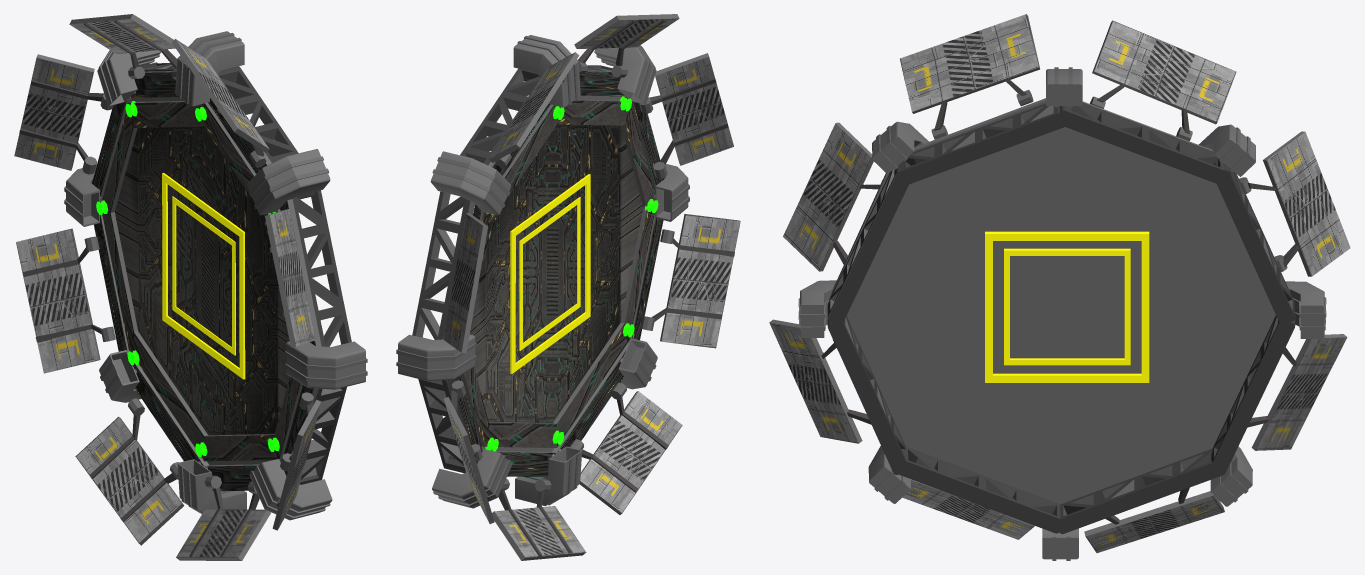
File: SpawnPlatform.gltf
3 renders of one model, left to right at view 1: azimuth 30°, elevation 25°; view 2: azimuth 150°, elevation 25°; view 3: azimuth 270°, elevation 25°, orthographic. The views are drawn at different scales.
Parts seen in each view (by area): view 1: Cube.003_Mid_0, Cube.003_Sides_0, Cube.003_Base color_0, Cube.003_Material_0, Cube.003_Material.002_0, Cube.003_Material.001_0, Cube.003_Material.003_0, Cube.003_Ylo Lig_0, Cube.003_Grn lig_0; view 2: Cube.003_Mid_0, Cube.003_Sides_0, Cube.003_Base color_0, Cube.003_Material_0, Cube.003_Material.002_0, Cube.003_Material.001_0, Cube.003_Material.003_0, Cube.003_Ylo Lig_0, Cube.003_Grn lig_0; view 3: Cube.003_Base color_0, Cube.003_Sides_0, Cube.003_Material.001_0, Cube.003_Material.003_0, Cube.003_Material.002_0, Cube.003_Ylo Lig_0.
Boxes of the visible parts, x1,y1,x2,y2 form: Cube.003_Mid_0: [115, 126, 289, 435]; Cube.003_Sides_0: [14, 18, 321, 557]; Cube.003_Base color_0: [17, 14, 367, 560]; Cube.003_Material_0: [92, 72, 315, 491]; Cube.003_Material.002_0: [64, 33, 367, 519]; Cube.003_Material.001_0: [140, 62, 351, 484]; Cube.003_Material.003_0: [162, 173, 245, 379]; Cube.003_Ylo Lig_0: [19, 20, 312, 557]; Cube.003_Grn lig_0: [96, 101, 279, 456]; Cube.003_Mid_0: [469, 124, 643, 422]; Cube.003_Sides_0: [443, 18, 740, 557]; Cube.003_Base color_0: [396, 14, 740, 560]; Cube.003_Material_0: [451, 71, 664, 477]; Cube.003_Material.002_0: [396, 35, 689, 507]; Cube.003_Material.001_0: [412, 65, 611, 472]; Cube.003_Material.003_0: [510, 174, 590, 373]; Cube.003_Ylo Lig_0: [451, 19, 734, 556]; Cube.003_Grn lig_0: [485, 96, 658, 451]; Cube.003_Base color_0: [769, 14, 1346, 560]; Cube.003_Sides_0: [769, 14, 1350, 552]; Cube.003_Material.001_0: [827, 102, 1295, 533]; Cube.003_Material.003_0: [985, 231, 1149, 382]; Cube.003_Material.002_0: [798, 67, 1326, 515]; Cube.003_Ylo Lig_0: [821, 79, 1299, 524].
Size of the model in its own units: 0.1649 by 0.9894 by 0.9672.
9 materials, 3 textured.
